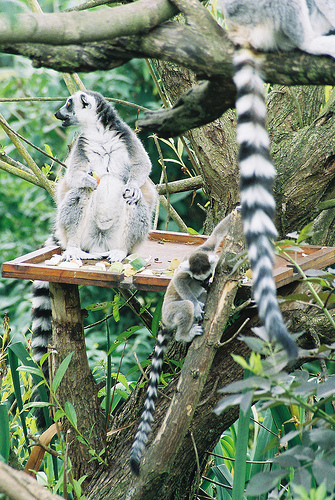cat: (206, 0, 333, 353), (26, 87, 162, 382), (122, 196, 253, 475)
